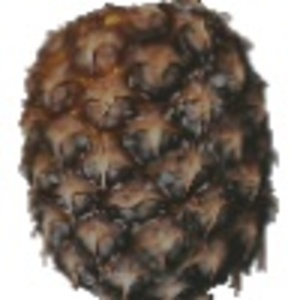abacaxi: (17, 2, 282, 298)
